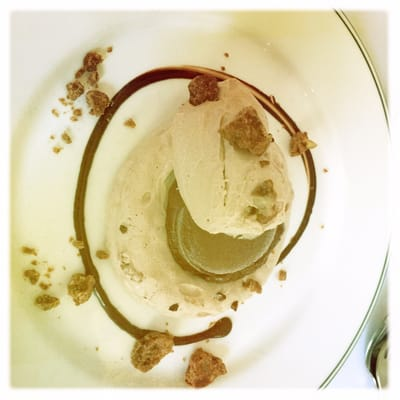sushi: (167, 76, 291, 239)
